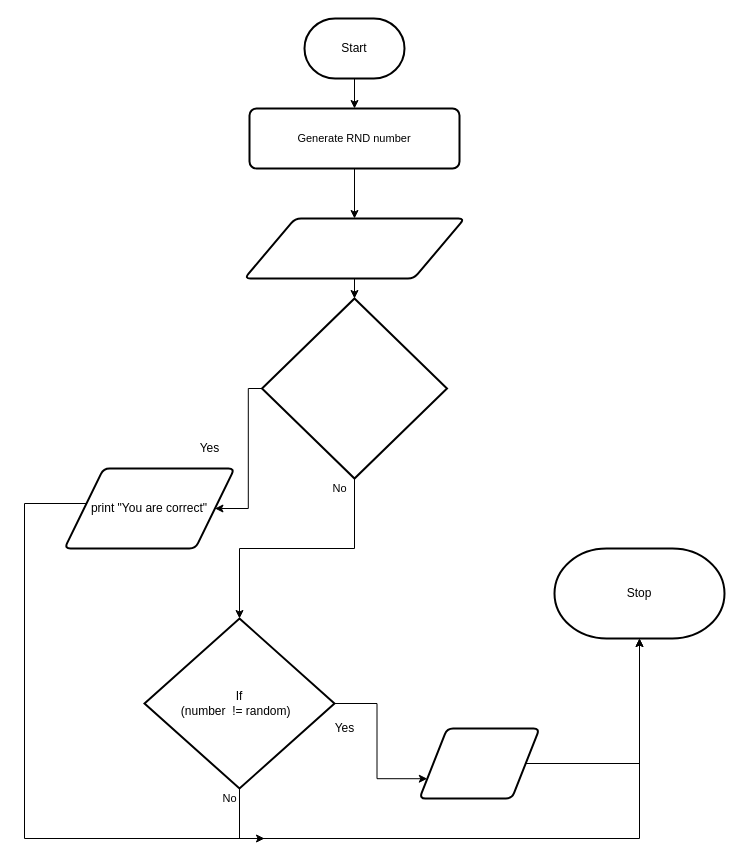
Some shapes in this 743 by 864 pixel diagram are drawn without their labels. Each missing label, with the box of its shape:
If (number == random): (260, 297, 448, 479)
Input number between 1-6: (243, 217, 465, 279)
print "You are incorrect": (418, 727, 540, 799)
